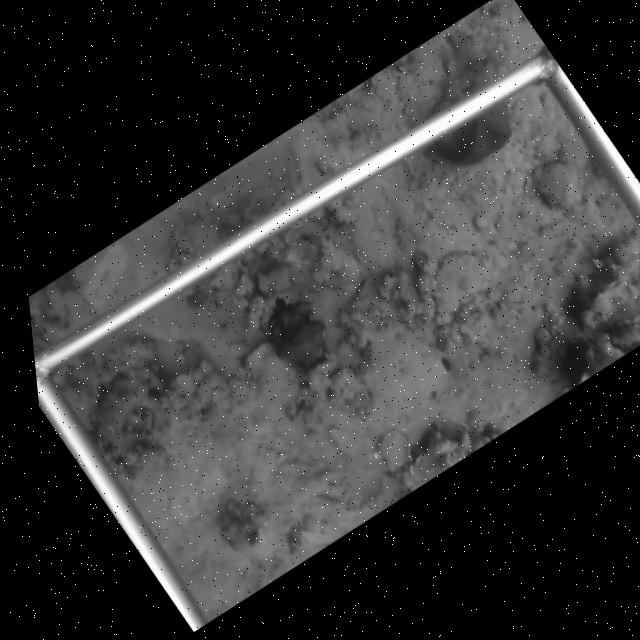Oyster-Indeterminate: (431, 248, 502, 328)
